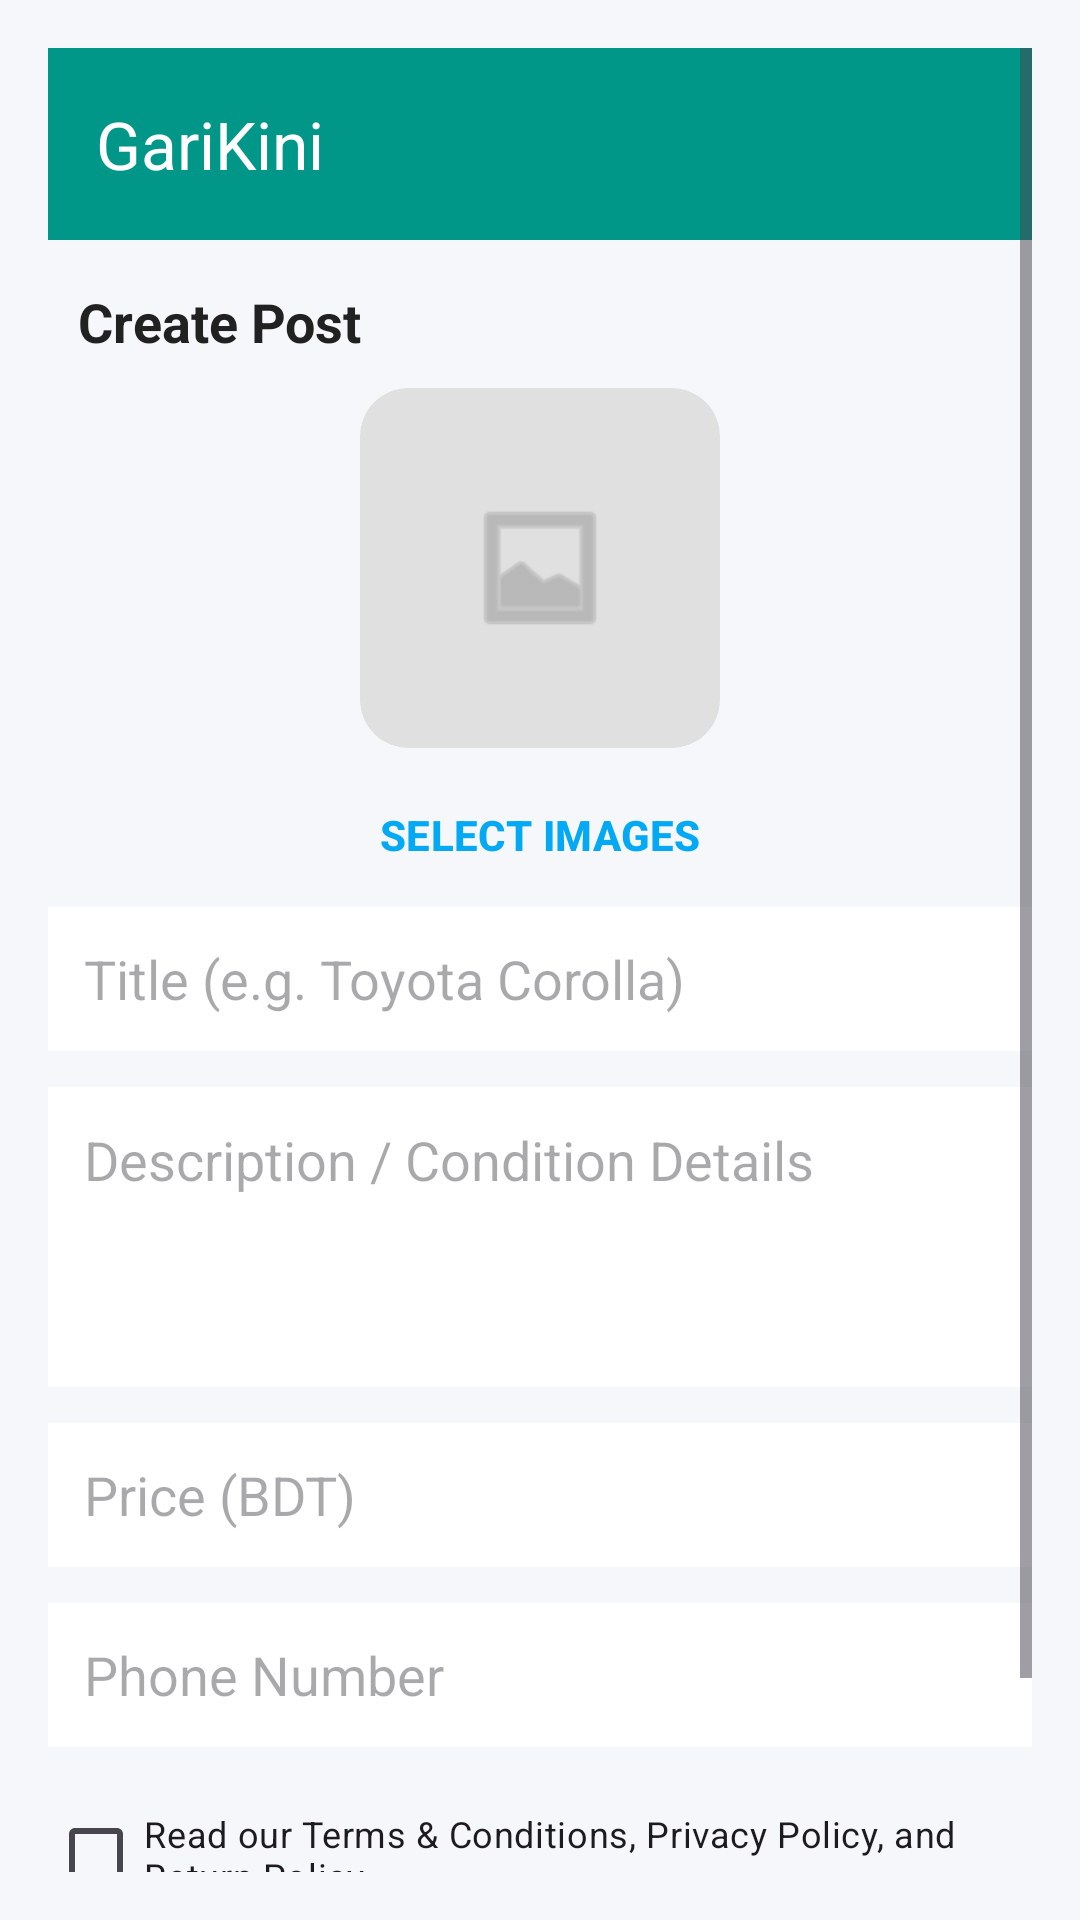

Screen size 1080 × 1920. Icon name, then its center in pixels as (x,y):
gallery: (540,568)
